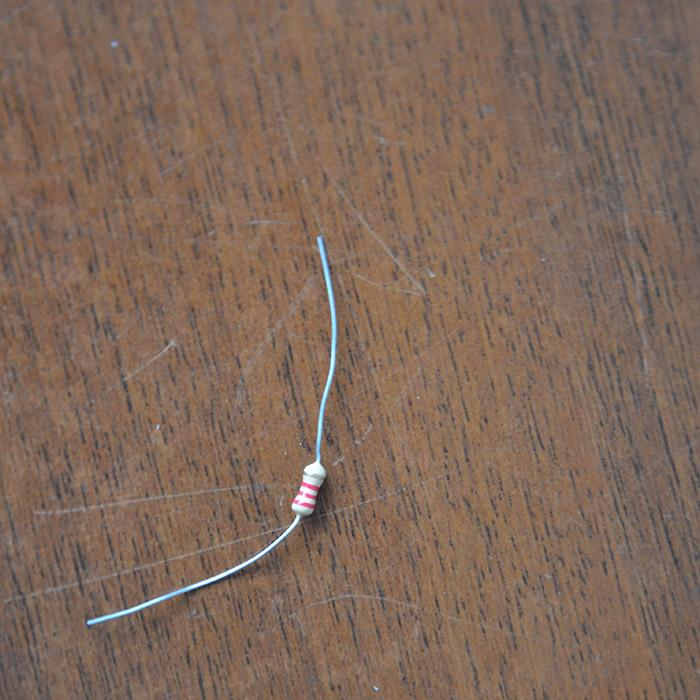resistor: (291, 461, 327, 516)
